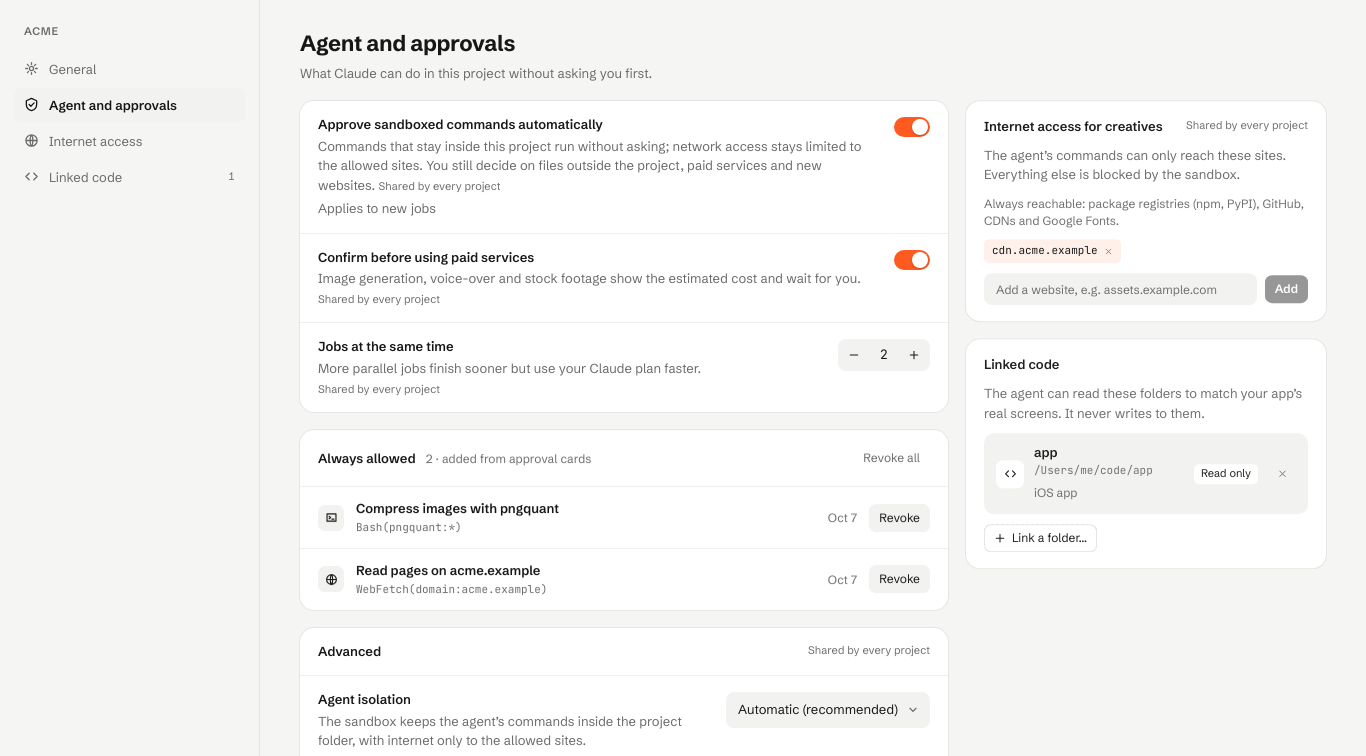
Test: Project settings · always allowed › Revoke all that fails half way keeps only the rules that are still saved
Expected: the text "Compress images with pngquant" is shown, [356,500,559,516]
Step 1. Click the button "Revoke all" → (892, 458), box [853,444,930,472]
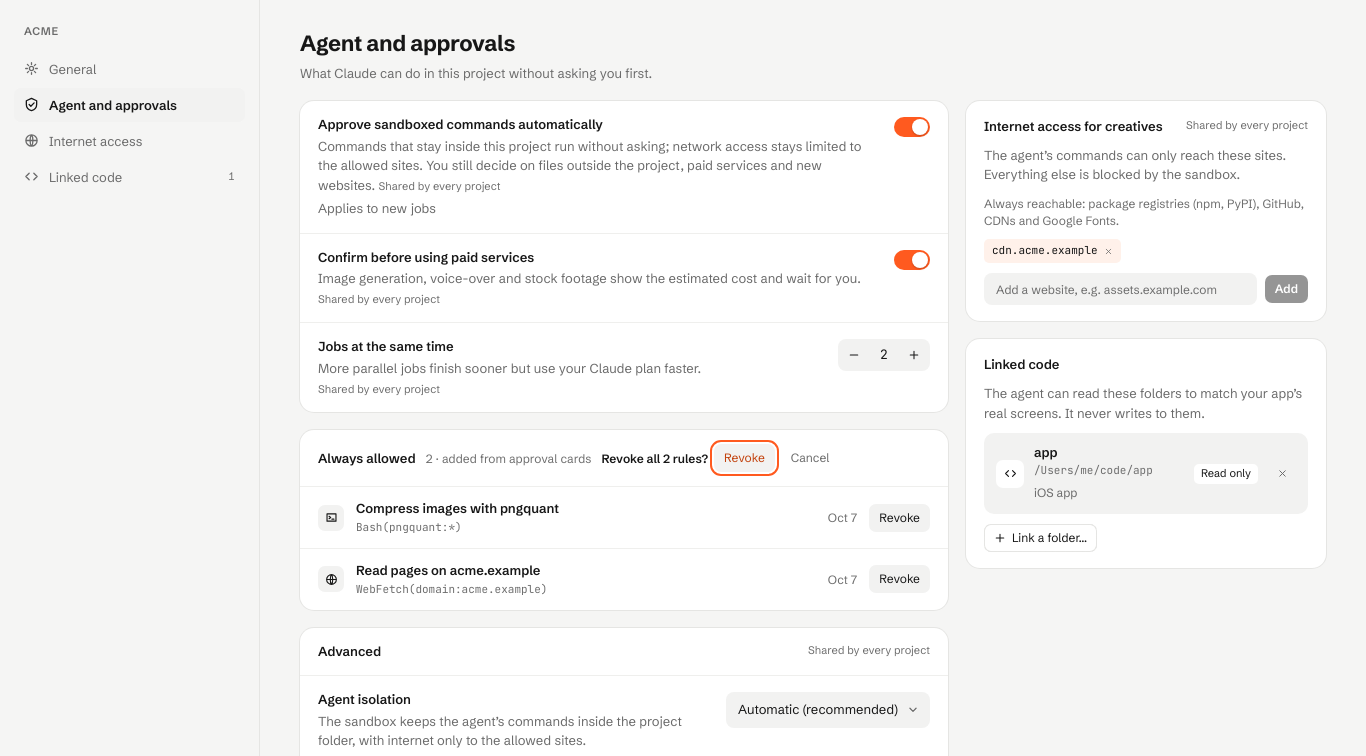
Step 2. Click the button with aria-label "Revoke all 2 rules" → (744, 458), box [714,444,775,472]
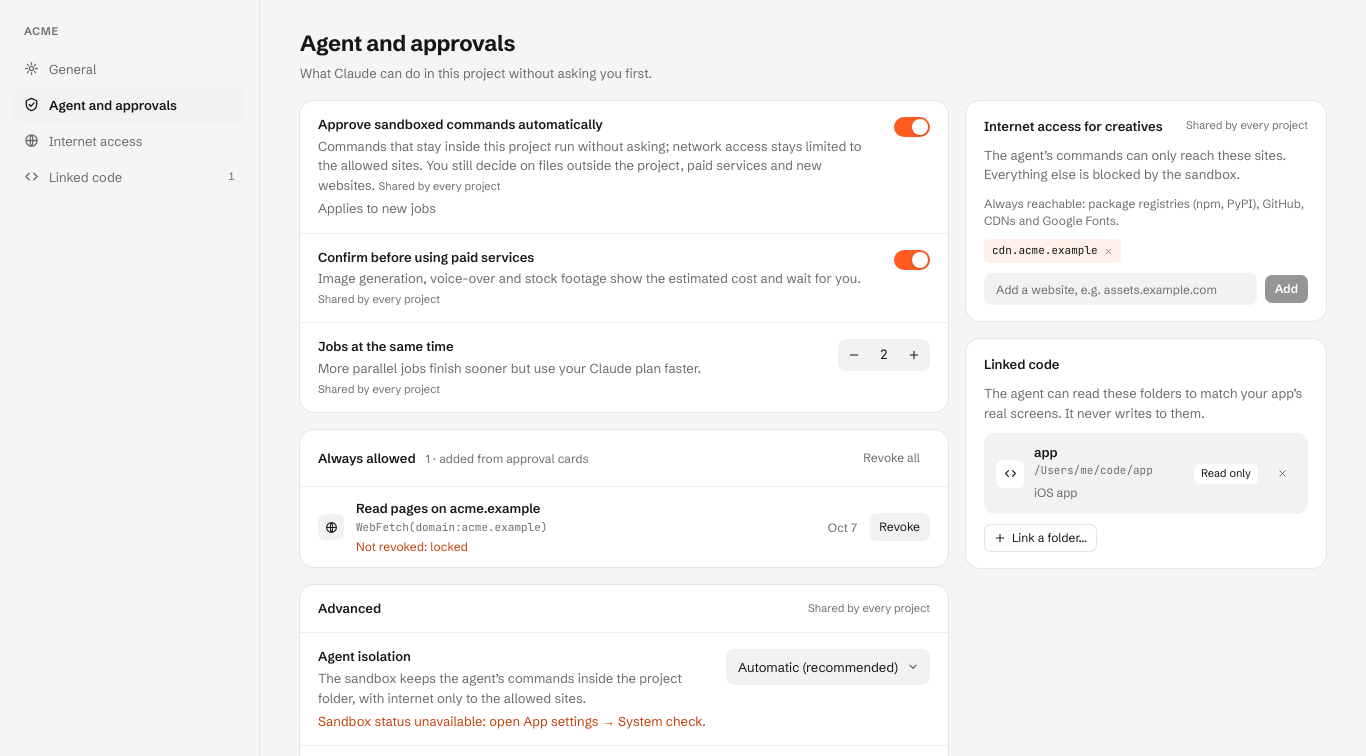
Expected: the text "Read pages on acme.example" is shown, [356,500,540,516]
Expected: the text "Compress images with pngquant" is gone
Expected: the message reads "Not revoked: locked", [356,539,468,554]
